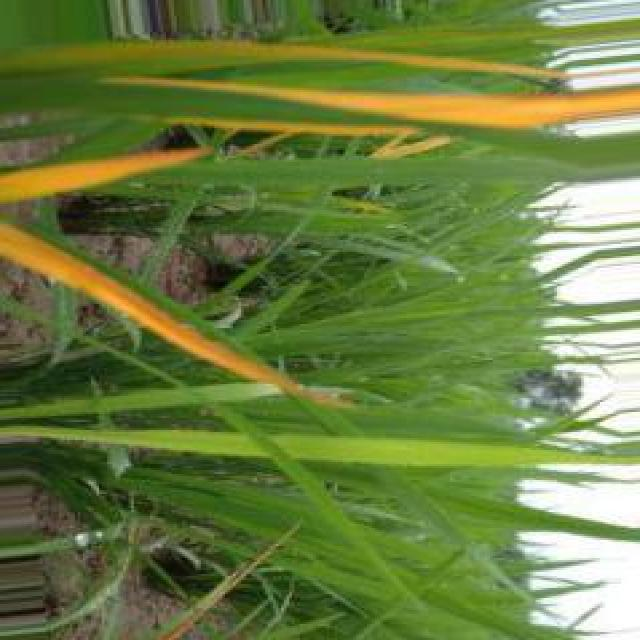Rice Tungro: (0, 226, 336, 404), (109, 76, 639, 128), (223, 45, 562, 79), (0, 151, 211, 202), (172, 121, 452, 158), (576, 97, 638, 118), (465, 121, 564, 127)
